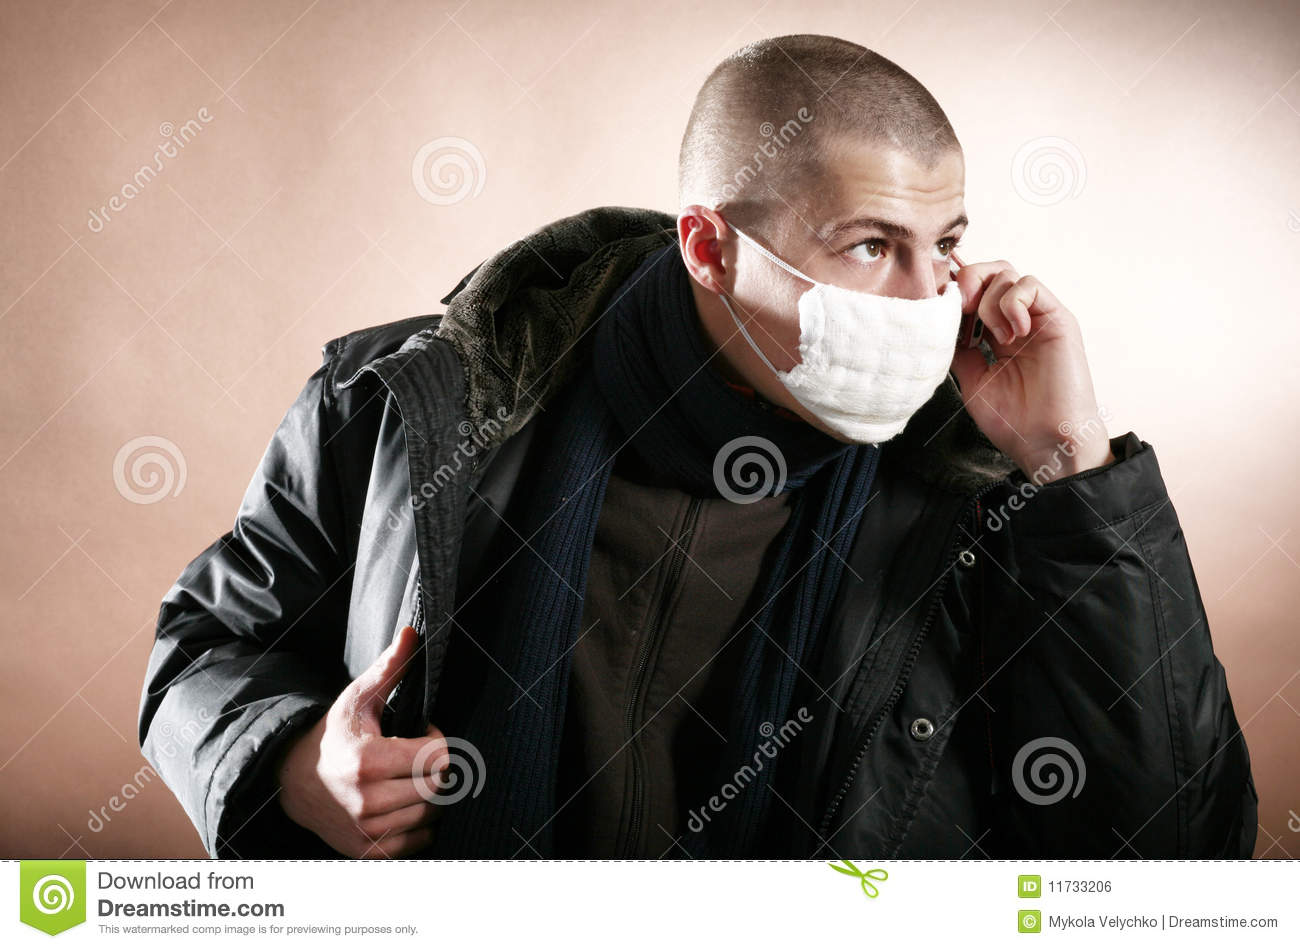mask: (777, 284, 961, 446)
